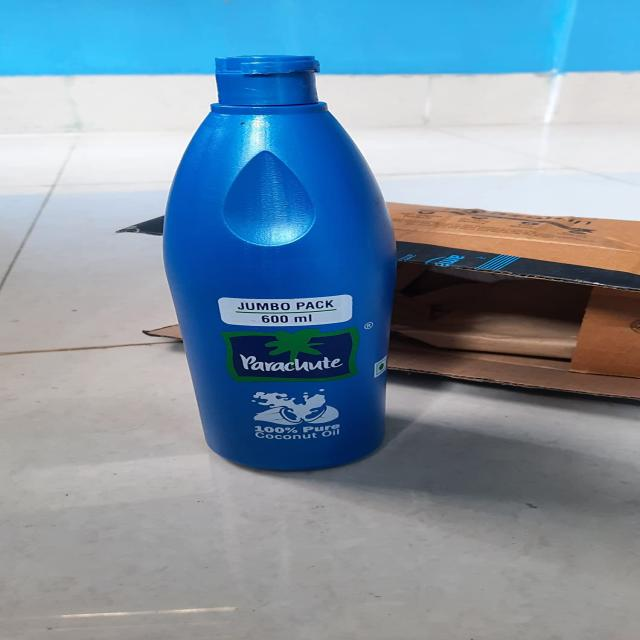parachute_oil: (154, 39, 420, 488)
